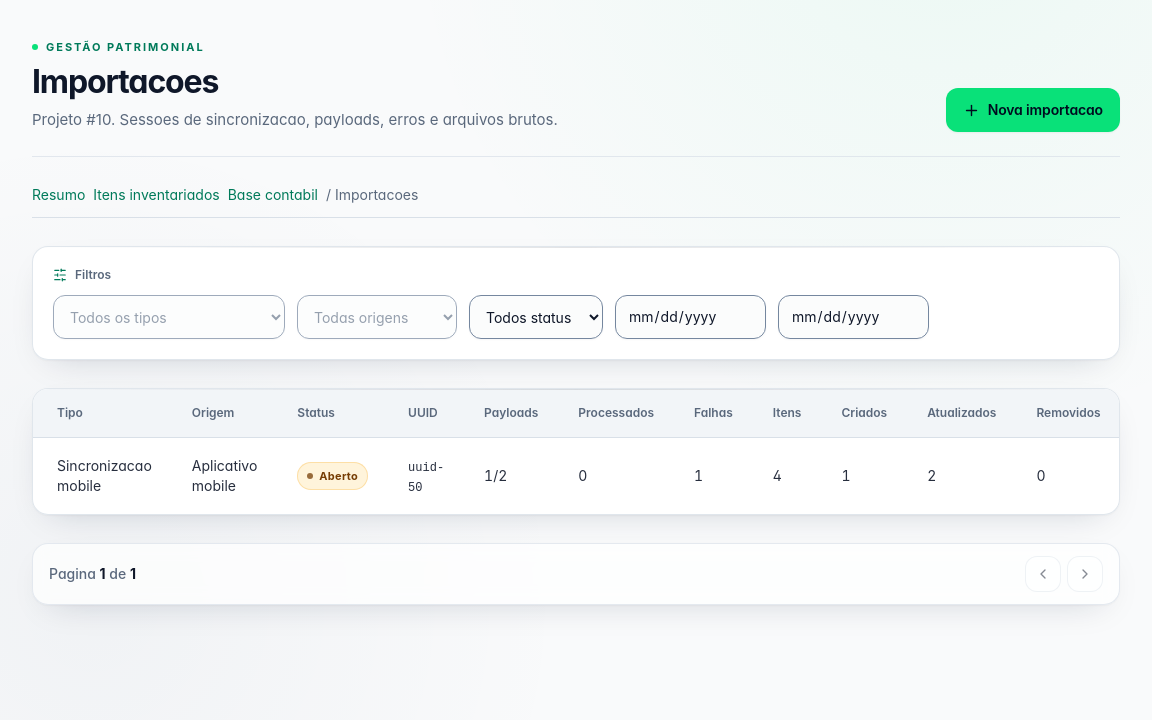
ProjectImportSessionsPage › valida formulario de nova importacao
Click the button "Nova importacao" at (1033, 110), box x1=946 y1=88 x2=1120 y2=132
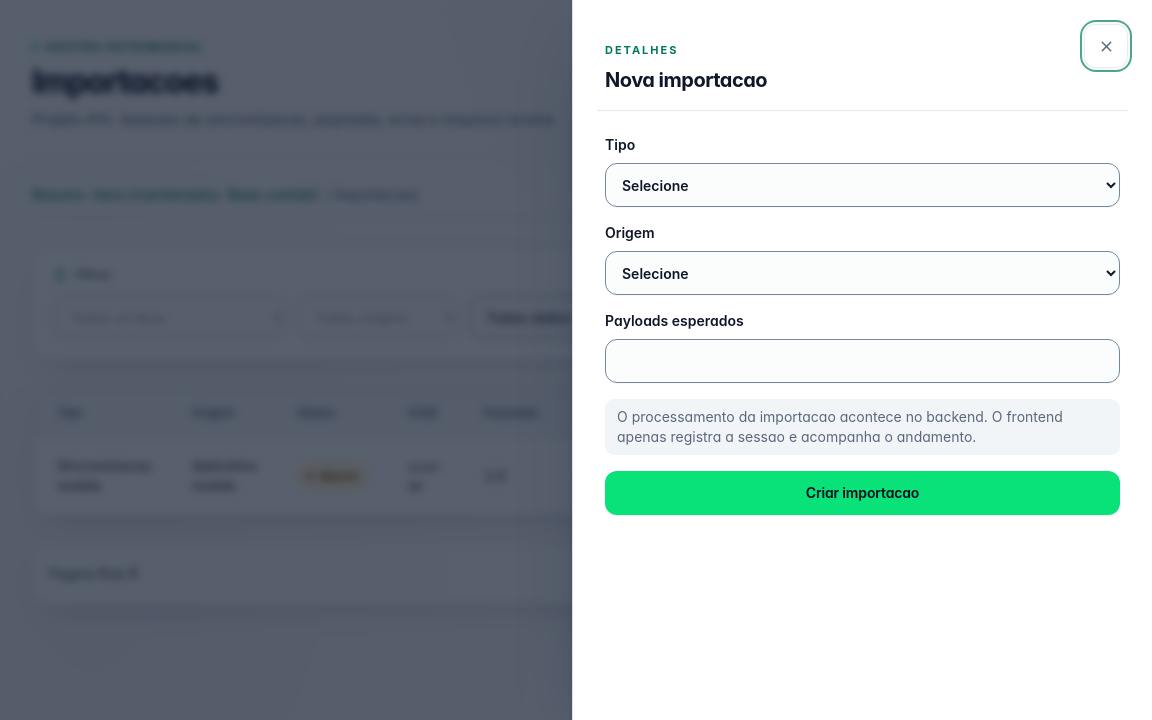
Click the button "Criar importacao" at (862, 493), box x1=605 y1=471 x2=1120 y2=515
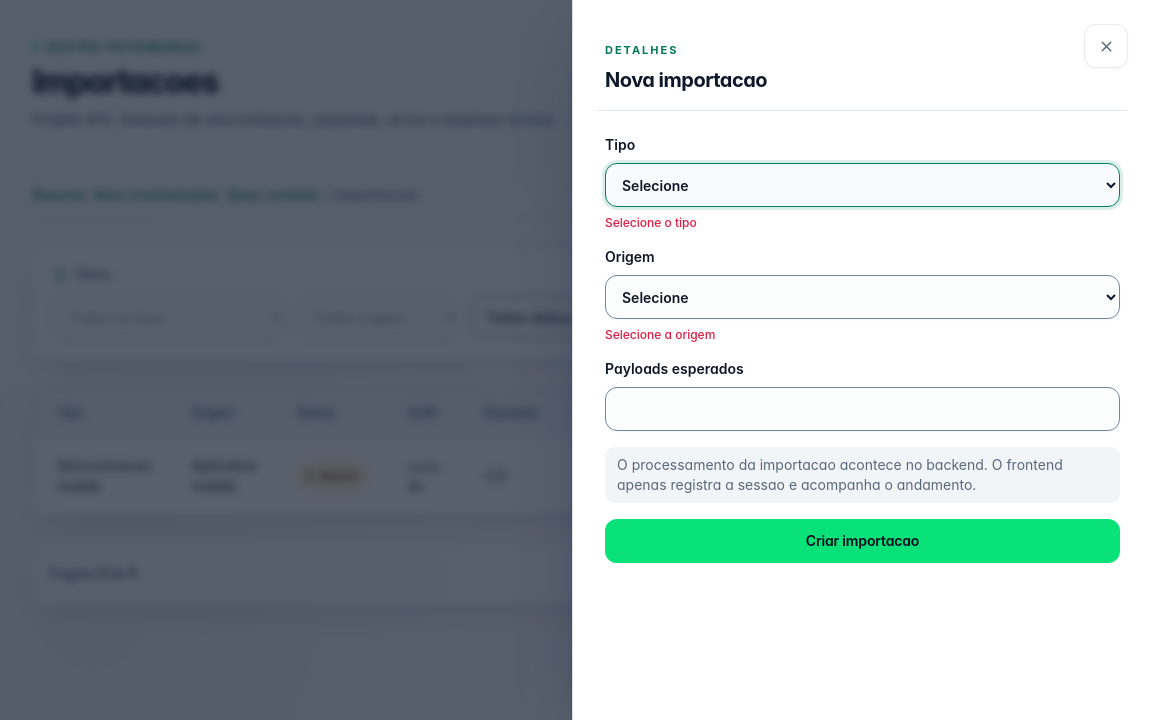
Now the text "Selecione o tipo" is shown, box x1=605 y1=215 x2=697 y2=230
